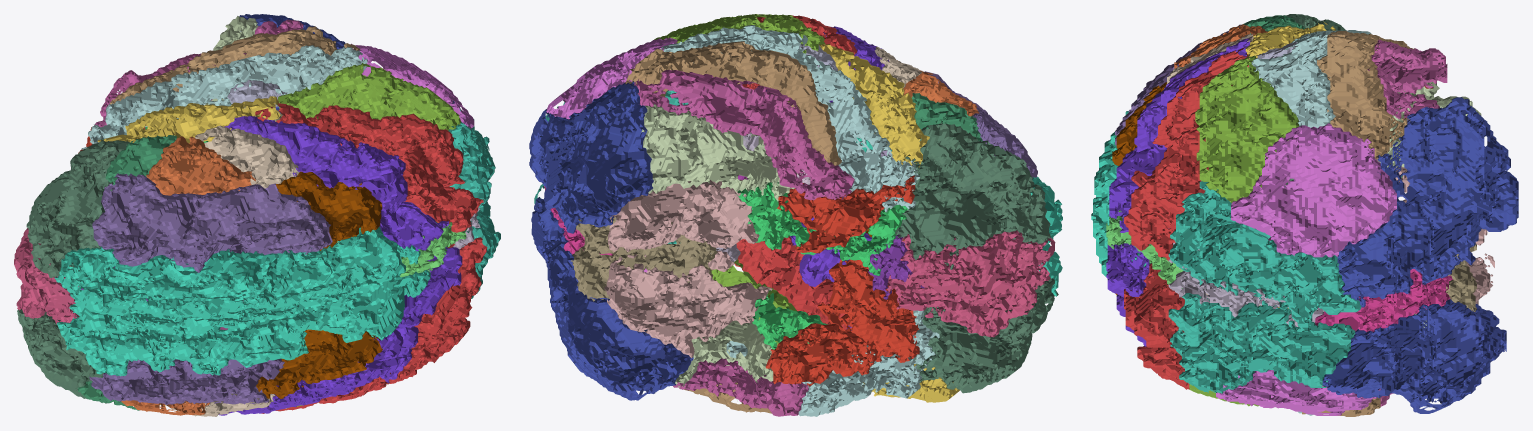
The model's file is aparc.DKTatlas+aseg.glb.
3 views of the same model, side by side, from view 1: azimuth 30°, elevation 25°; view 2: azimuth 150°, elevation 25°; view 3: azimuth 270°, elevation 25° (orthographic). The views are drawn at different scales.
Parts seen in each view (by area): view 1: 1028_ctx-lh-superiorfrontal, 2028_ctx-rh-superiorfrontal, 1027_ctx-lh-rostralmiddlefrontal, 1022_ctx-lh-postcentral, 1024_ctx-lh-precentral, 1030_ctx-lh-superiortemporal, 1012_ctx-lh-lateralorbitofrontal, 2027_ctx-rh-rostralmiddlefrontal, 1031_ctx-lh-supramarginal, 2024_ctx-rh-precentral, 2022_ctx-rh-postcentral, 2003_ctx-rh-caudalmiddlefrontal (+21 smaller); view 2: 1012_ctx-lh-lateralorbitofrontal, 1011_ctx-lh-lateraloccipital, 2011_ctx-rh-lateraloccipital, 1009_ctx-lh-inferiortemporal, 2006_ctx-rh-entorhinal, 2013_ctx-rh-lingual, 1030_ctx-lh-superiortemporal, 1007_ctx-lh-fusiform, 1013_ctx-lh-lingual, 1015_ctx-lh-middletemporal, 2012_ctx-rh-lateralorbitofrontal, 1014_ctx-lh-medialorbitofrontal (+26 smaller); view 3: 1011_ctx-lh-lateraloccipital, 1008_ctx-lh-inferiorparietal, 2011_ctx-rh-lateraloccipital, 2029_ctx-rh-superiorparietal, 1029_ctx-lh-superiorparietal, 1031_ctx-lh-supramarginal, 1022_ctx-lh-postcentral, 1015_ctx-lh-middletemporal, 1030_ctx-lh-superiortemporal, 1024_ctx-lh-precentral, 2022_ctx-rh-postcentral, 1009_ctx-lh-inferiortemporal (+18 smaller).
Boxes of the visible parts, x1,y1,x2,y2 form: 1028_ctx-lh-superiorfrontal: (54, 227, 420, 322); 2028_ctx-rh-superiorfrontal: (57, 270, 430, 376); 1027_ctx-lh-rostralmiddlefrontal: (92, 173, 332, 272); 1022_ctx-lh-postcentral: (255, 103, 483, 232); 1024_ctx-lh-precentral: (224, 116, 450, 251); 1030_ctx-lh-superiortemporal: (81, 45, 367, 149); 1012_ctx-lh-lateralorbitofrontal: (26, 138, 131, 277); 2027_ctx-rh-rostralmiddlefrontal: (89, 349, 284, 405); 1031_ctx-lh-supramarginal: (278, 63, 461, 130); 2024_ctx-rh-precentral: (219, 246, 462, 415); 2022_ctx-rh-postcentral: (261, 237, 487, 413); 2003_ctx-rh-caudalmiddlefrontal: (256, 329, 382, 398); 1012_ctx-lh-lateralorbitofrontal: (895, 122, 1050, 269); 1011_ctx-lh-lateraloccipital: (529, 81, 653, 233); 2011_ctx-rh-lateraloccipital: (531, 197, 693, 400); 1009_ctx-lh-inferiortemporal: (634, 70, 854, 200); 2006_ctx-rh-entorhinal: (765, 259, 919, 386); 2013_ctx-rh-lingual: (604, 250, 772, 358); 1030_ctx-lh-superiortemporal: (661, 25, 920, 212); 1007_ctx-lh-fusiform: (641, 104, 801, 201); 1013_ctx-lh-lingual: (608, 178, 759, 258); 1015_ctx-lh-middletemporal: (625, 41, 841, 165); 2012_ctx-rh-lateralorbitofrontal: (913, 278, 1058, 393); 1014_ctx-lh-medialorbitofrontal: (900, 230, 1055, 306); 1011_ctx-lh-lateraloccipital: (1337, 97, 1518, 307); 1008_ctx-lh-inferiorparietal: (1231, 123, 1396, 257); 2011_ctx-rh-lateraloccipital: (1322, 299, 1506, 413); 2029_ctx-rh-superiorparietal: (1168, 293, 1355, 393); 1029_ctx-lh-superiorparietal: (1168, 181, 1361, 331); 1031_ctx-lh-supramarginal: (1195, 55, 1298, 203); 1022_ctx-lh-postcentral: (1124, 47, 1248, 260); 1015_ctx-lh-middletemporal: (1317, 31, 1414, 160); 1030_ctx-lh-superiortemporal: (1251, 30, 1371, 128); 1024_ctx-lh-precentral: (1109, 37, 1251, 232); 2022_ctx-rh-postcentral: (1124, 263, 1189, 389); 1009_ctx-lh-inferiortemporal: (1367, 39, 1447, 118).
Bounding box in the file's own units: 185 × 130 × 144.
